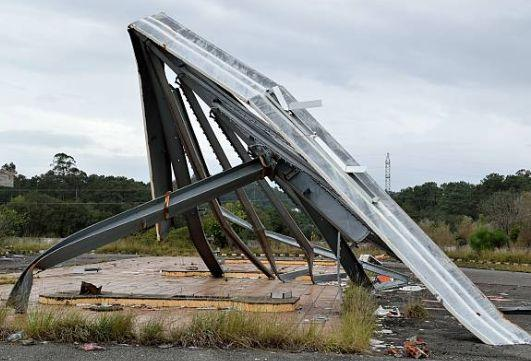metal: (7, 14, 526, 337)
